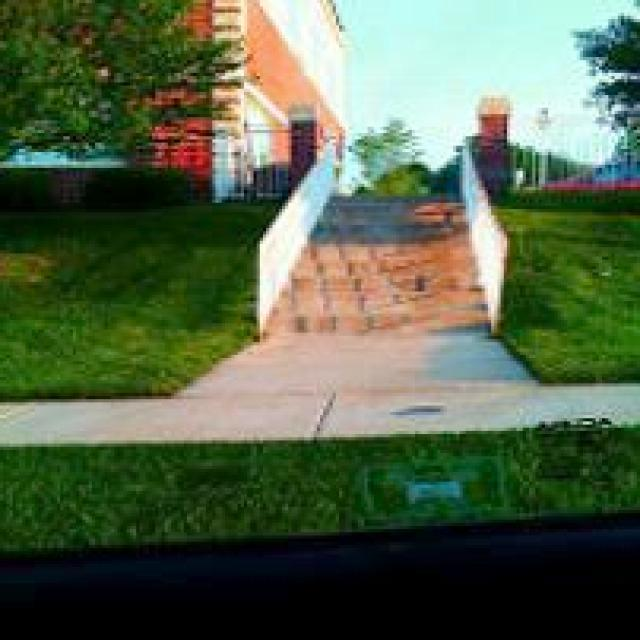upstair: (283, 134, 505, 353)
